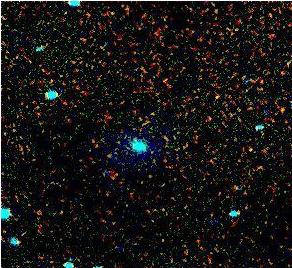star: (101, 163, 131, 193)
